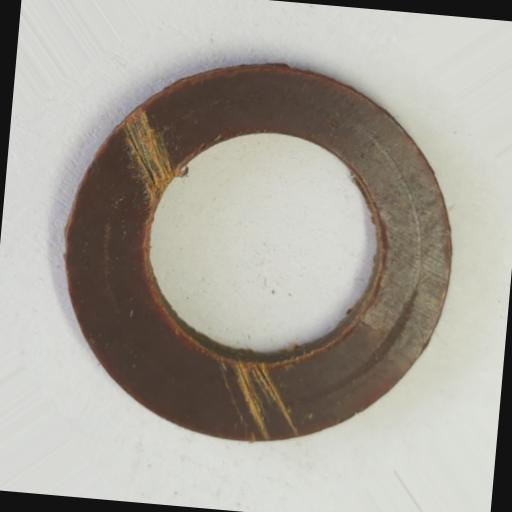defect: (212, 347, 304, 447), (114, 104, 180, 210)
